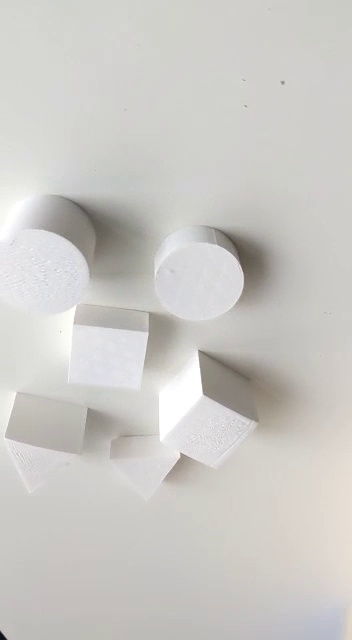Clyinder_short: (150, 222, 246, 324)
Cube: (156, 344, 265, 476)
Cube_short: (67, 298, 150, 396)
Cylinder: (1, 190, 98, 319)
Triangle: (1, 388, 90, 497)
Triangle_short: (103, 433, 189, 506)
